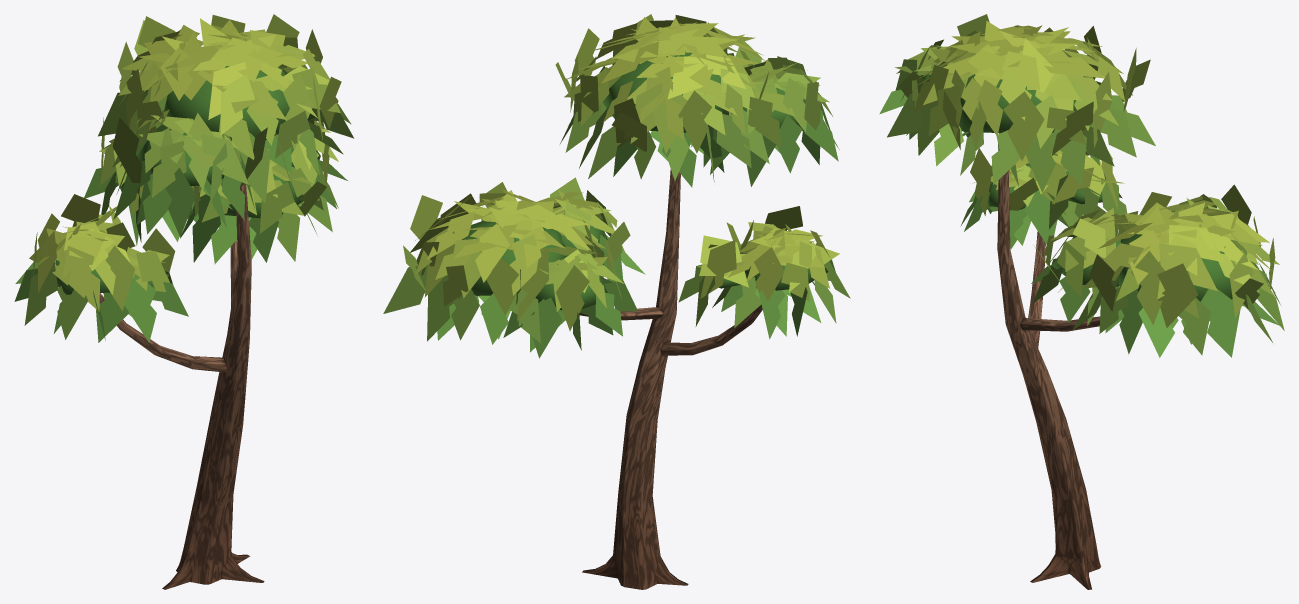
Rendered from tree_young_1.glb.
The picture shows the model from 3 angles, left to right: view 1: azimuth 30°, elevation 25°; view 2: azimuth 150°, elevation 25°; view 3: azimuth 270°, elevation 25°; orthographic projection. The views are drawn at different scales.
Visible parts, largest first — view 1: tree_young_1; view 2: tree_young_1; view 3: tree_young_1.
Part boxes in pixels (x1=…): tree_young_1: x1=14, y1=14, x2=354, y2=589; tree_young_1: x1=383, y1=14, x2=850, y2=589; tree_young_1: x1=879, y1=14, x2=1284, y2=589.
Size of the model in its own units: 4 by 5.6 by 3.9.
2 materials, 2 textured.
